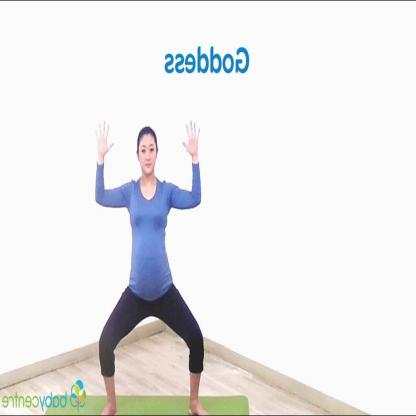godness: (86, 112, 216, 416)
